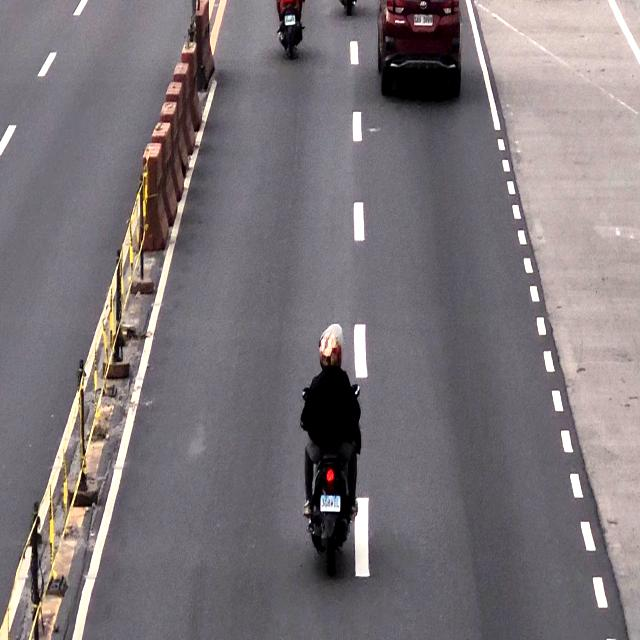License-Plate: (318, 492, 342, 514), (414, 14, 434, 26)
Motorcycle: (299, 320, 361, 578)
